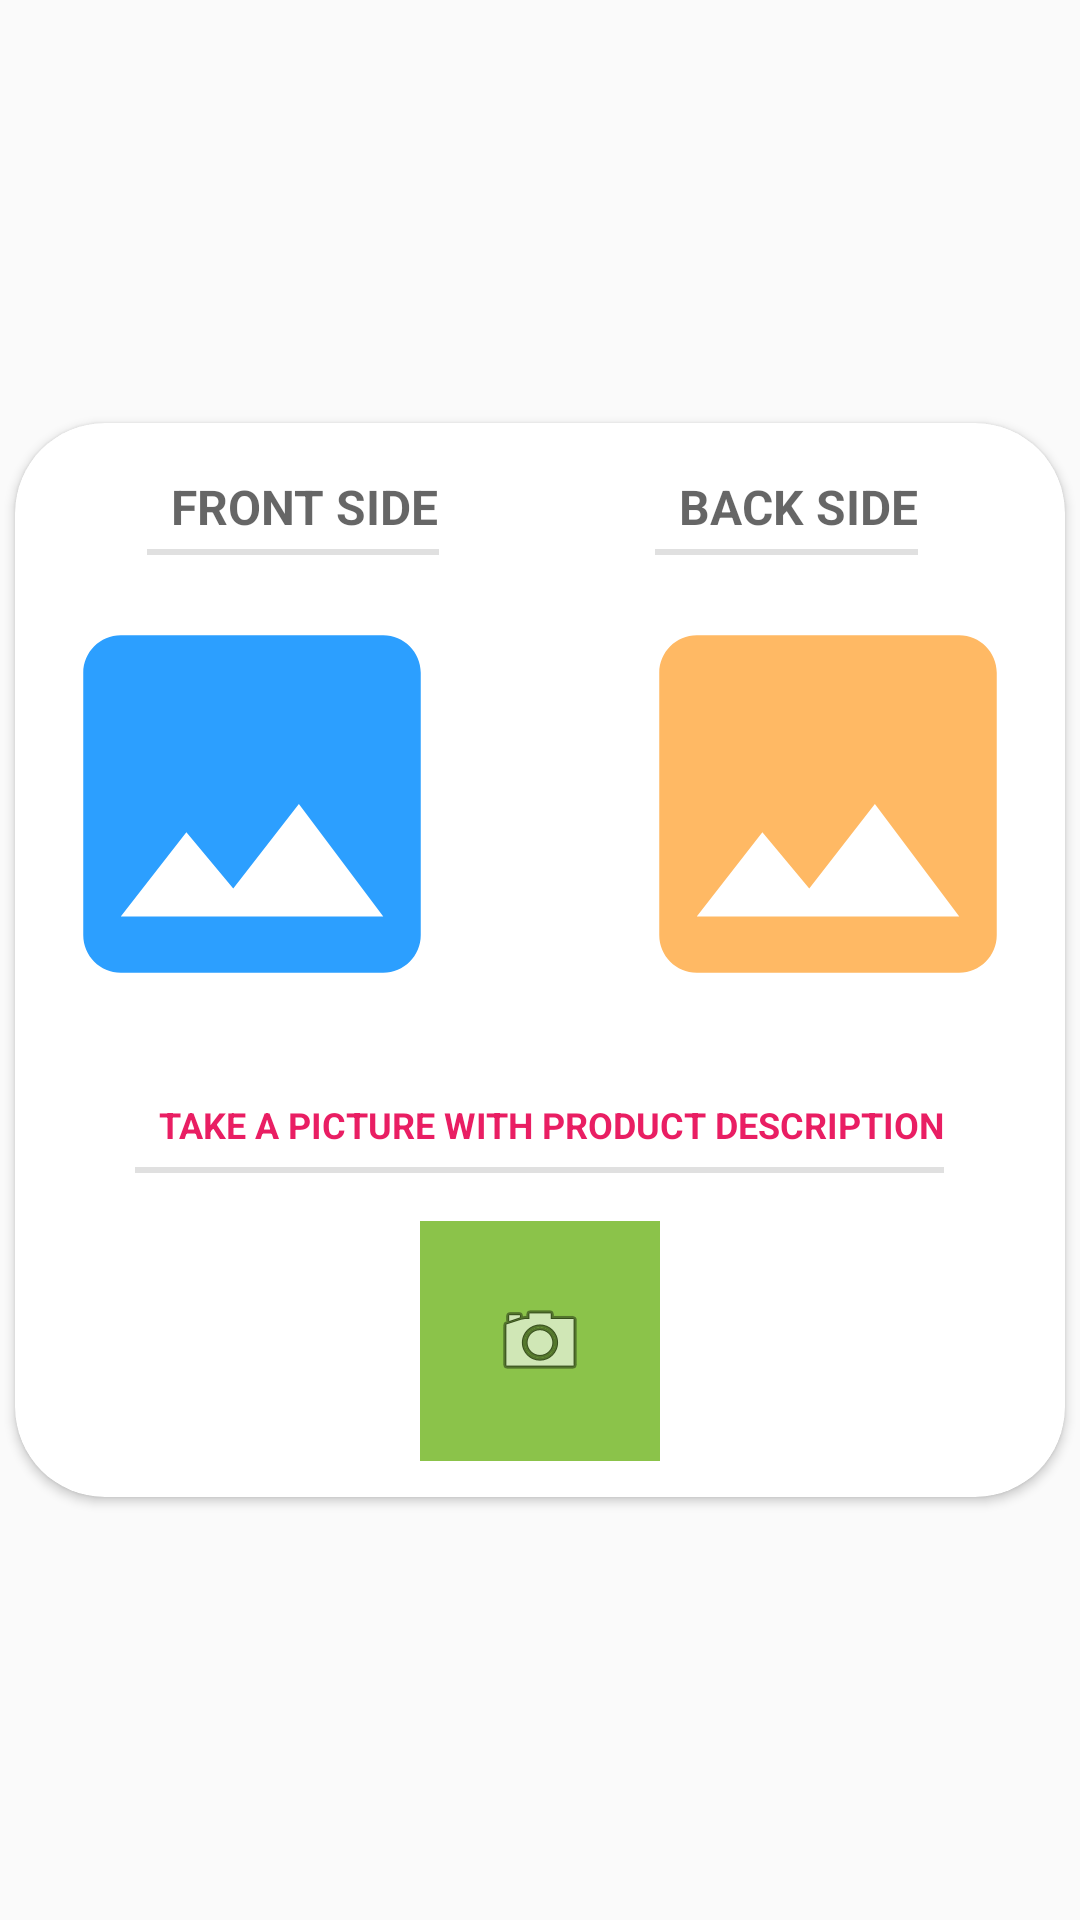

Icon bounding boxes for this 1080×1920 phone screenshot, format bbox=(x1, y1, x2, y2):
camera: bbox=(420, 1221, 660, 1461)
